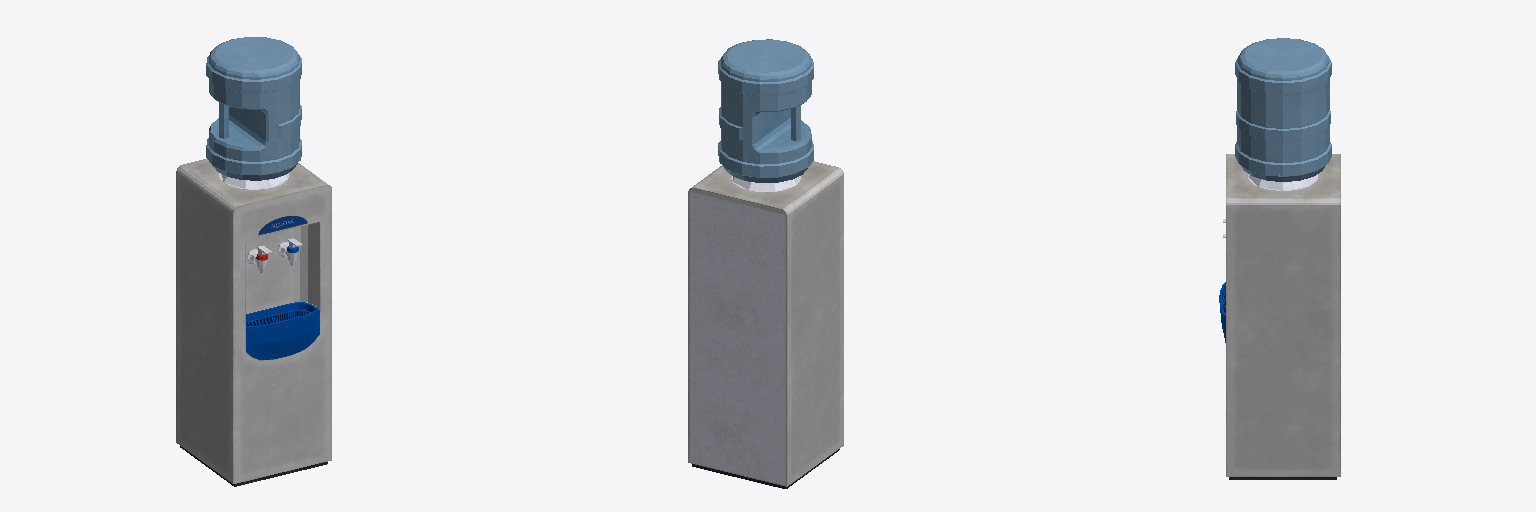
3 views of the same model, side by side, from view 1: azimuth 30°, elevation 25°; view 2: azimuth 150°, elevation 25°; view 3: azimuth 270°, elevation 25° (orthographic).
Parts seen in each view (by area): view 1: object_0; view 2: object_0; view 3: object_0.
Part boxes in pixels (left/top/right/bottom): object_0: left=176, top=37, right=331, bottom=486; object_0: left=688, top=39, right=843, bottom=488; object_0: left=1219, top=38, right=1340, bottom=479.
Bounding box in the file's own units: 35 × 136 × 37.12.
1 materials, 1 textured.